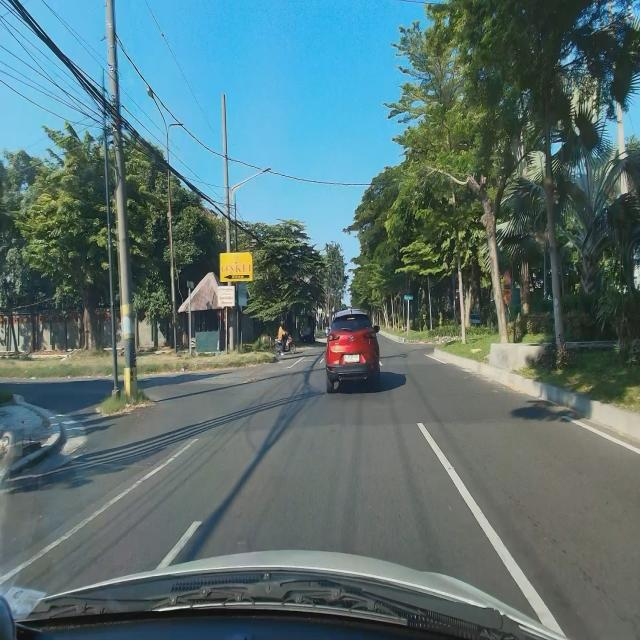car: (325, 308, 380, 394)
license-plate: (344, 352, 360, 364)
